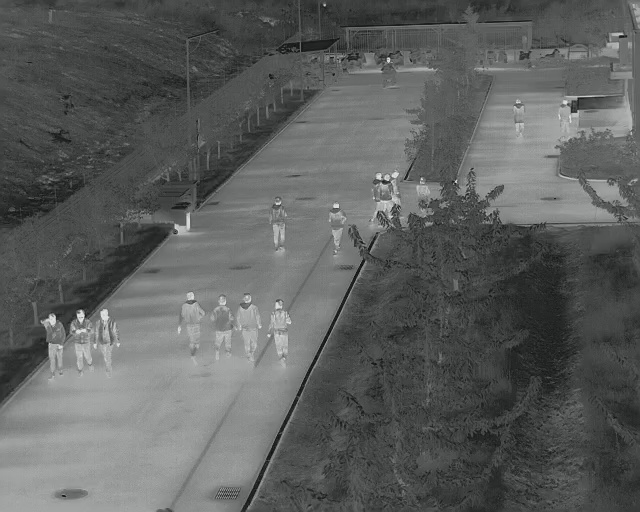NonMotorVehicle: (380, 55, 400, 88)
person: (176, 291, 206, 365), (37, 312, 67, 383), (92, 307, 121, 378), (208, 293, 237, 361), (236, 293, 264, 363), (266, 298, 293, 367), (70, 309, 93, 375), (269, 196, 290, 255), (327, 200, 347, 257), (378, 173, 394, 216), (512, 99, 527, 138), (557, 98, 572, 136), (414, 177, 431, 207)
